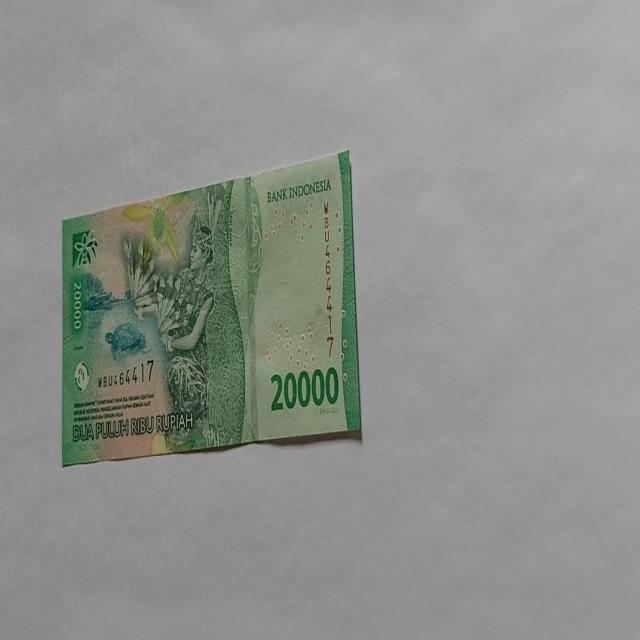dua puluh ribu rupiah: (61, 147, 363, 466)
